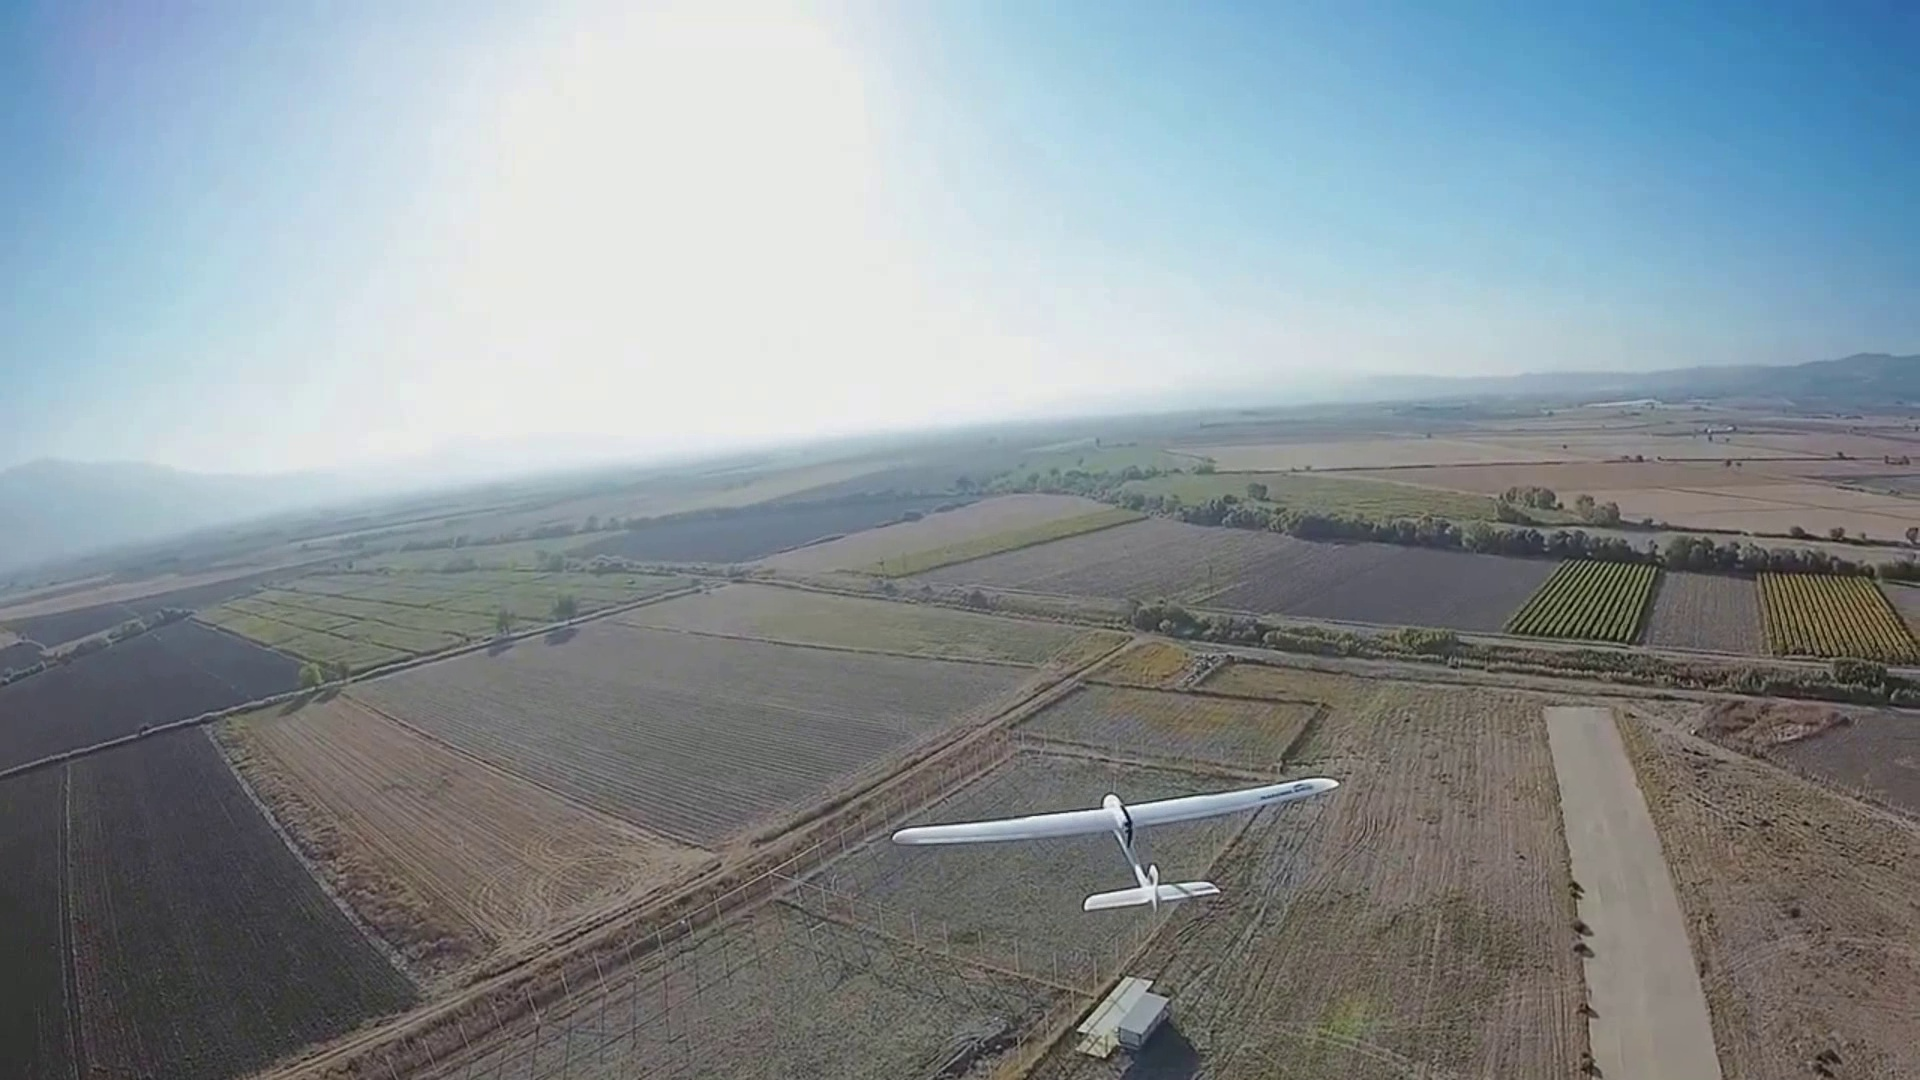airplane: (895, 771, 1337, 909)
